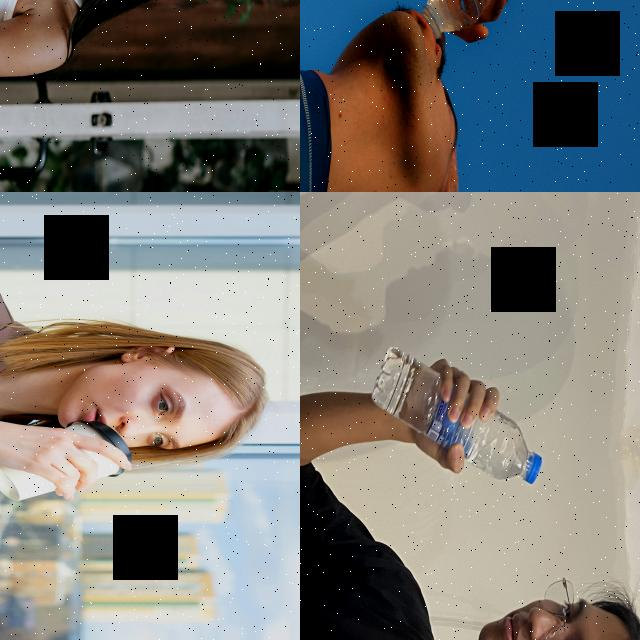bottle: (362, 343, 550, 488)
cup: (0, 420, 129, 502)
